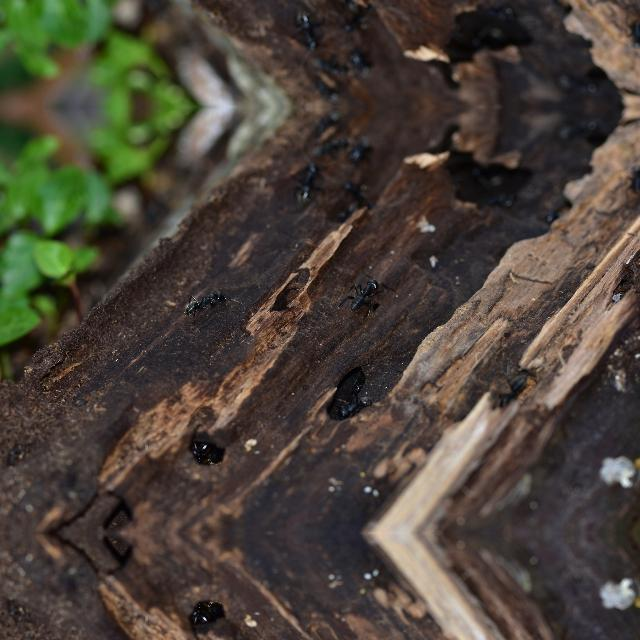Camponotus: (334, 272, 390, 318), (174, 283, 236, 321), (283, 160, 329, 208), (283, 4, 329, 52), (334, 389, 381, 418), (336, 178, 378, 210), (336, 2, 378, 34), (496, 370, 530, 408)
